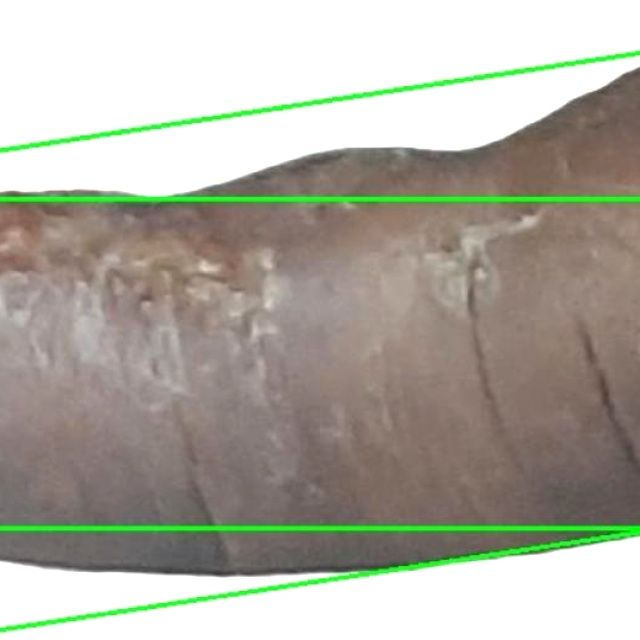Eczema: (0, 54, 639, 630)
